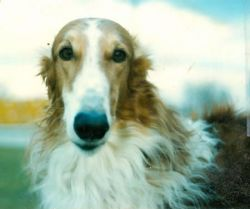borzoi: (35, 17, 213, 207)
